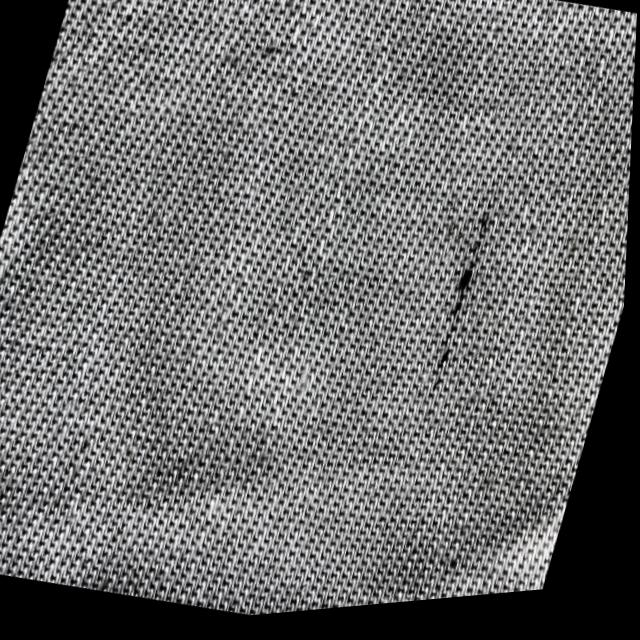Hole: (445, 257, 490, 338), (467, 197, 507, 259), (423, 351, 463, 412)
